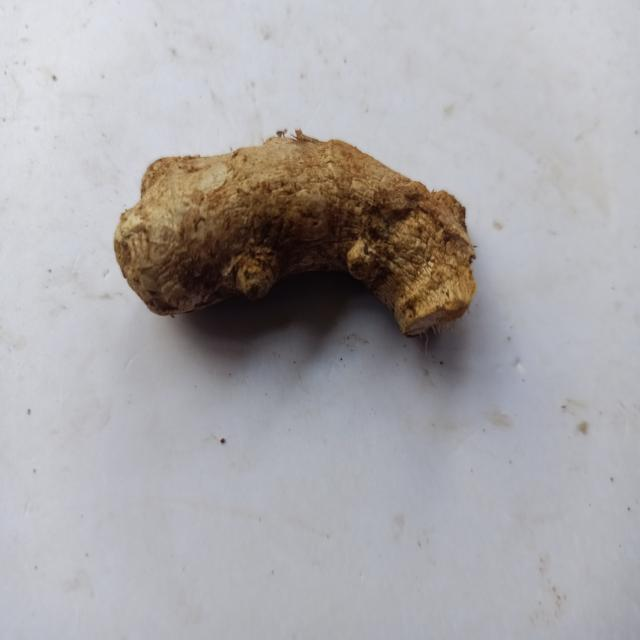Ginger: (113, 129, 476, 336)
